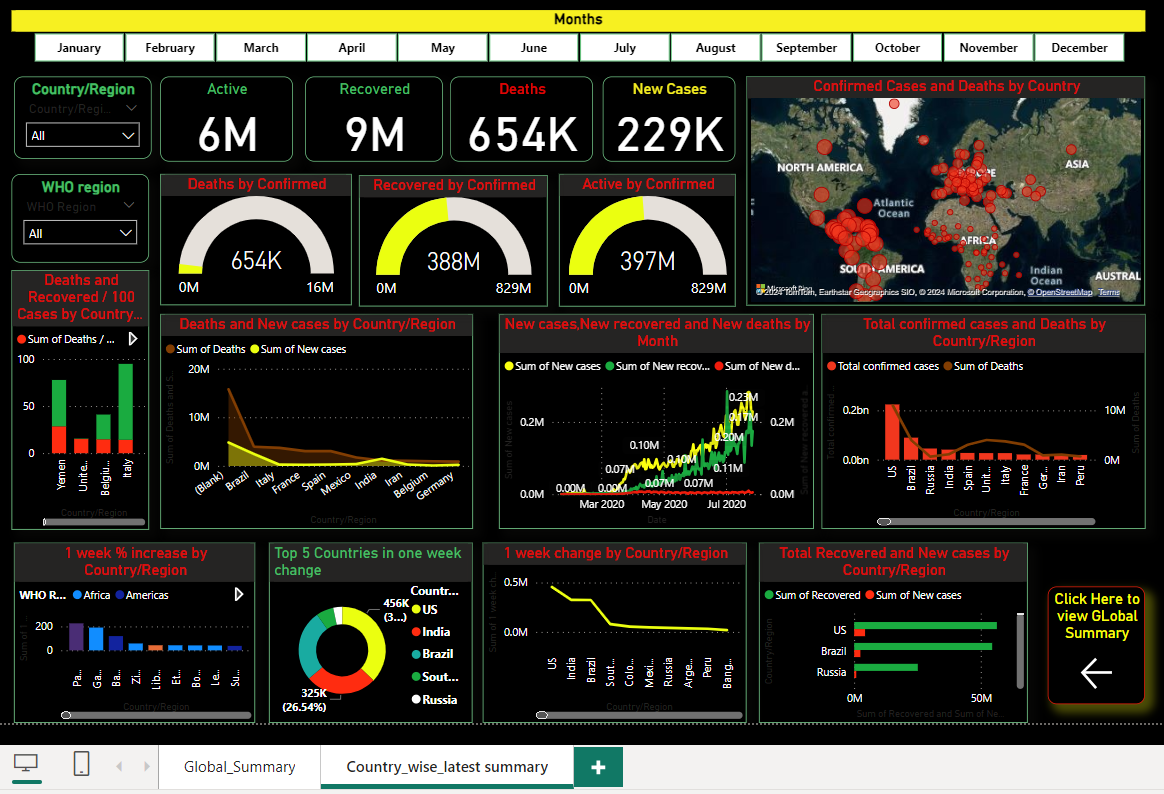

What the dashboard file says about the page in this screenshot:
{"tool":"powerbi","page":{"name":"Country_wise_latest summary","canvas":[1314,817],"ordinal":1},"visuals":[{"type":"lineStackedColumnComboChart","title":"Total confirmed cases and Deaths by Country/Region","fields":{"Category":["full_grouped.Country/Region"],"Y":["Sum(full_grouped.Confirmed)"],"Y2":["Sum(full_grouped.Deaths)"]},"box":[927.9,355.4,365.2,242.6],"z":0},{"type":"clusteredBarChart","title":"Total Recovered and  New cases by Country/Region","fields":{"Category":["full_grouped.Country/Region"],"Y":["Sum(full_grouped.Recovered)","Sum(full_grouped.New cases)"]},"box":[857.4,613.4,303.2,203.1],"z":1000},{"type":"areaChart","title":"Deaths and New cases by Country/Region","fields":{"Category":["worldometer_data.Country/Region"],"Y":["Sum(full_grouped.Deaths)","Sum(full_grouped.New cases)"]},"box":[181.9,355.4,352.5,242.6],"z":2000},{"type":"slicer","title":"Country/Region","fields":{"Values":["full_grouped.Country/Region"]},"box":[16.9,87.4,155.1,93.1],"z":3000},{"type":"gauge","title":" Active by Confirmed","fields":{"Y":["Sum(full_grouped.Active)"],"MaxValue":["Sum(full_grouped.Confirmed)"]},"box":[631.9,197.8,199.2,149.7],"z":4000},{"type":"gauge","title":" Deaths by Confirmed","fields":{"MaxValue":["Sum(country_wise_latest (1).Confirmed)"],"Y":["Sum(country_wise_latest (1).Deaths)"]},"box":[181.3,197.8,215.7,148.4],"z":5000},{"type":"gauge","title":"Recovered by Confirmed","fields":{"Y":["Sum(full_grouped.Recovered)"],"MaxValue":["Sum(full_grouped.Confirmed)"]},"box":[406.6,199.2,212.9,148.4],"z":6000},{"type":"card","title":"Deaths","fields":{"Values":["Sum(country_wise_latest (1).Deaths)"]},"box":[509.6,87.9,160.7,96.2],"z":7000},{"type":"card","title":"Active ","fields":{"Values":["Sum(country_wise_latest (1).Active)"]},"box":[181.3,87.9,149.7,96.2],"z":8000},{"type":"card","title":"Recovered","fields":{"Values":["Sum(country_wise_latest (1).Recovered)"]},"box":[344.8,87.9,155.2,96.2],"z":9000},{"type":"slicer","title":"WHO region","fields":{"Values":["country_wise_latest (1).WHO Region"]},"box":[14.1,197.4,155.1,100.1],"z":10000},{"type":"map","title":"Confirmed Cases and Deaths by Country","fields":{"Category":["worldometer_data.Country/Region"],"Size":["Sum(country_wise_latest (1).Confirmed)"]},"box":[843.3,87.4,449.8,258.1],"z":11000},{"type":"card","title":"New Cases","fields":{"Values":["Sum(country_wise_latest (1).New cases)"]},"box":[681.4,87.9,149.7,96.2],"z":12000},{"type":"columnChart","title":"Deaths  and Recovered / 100 Cases by Country/Region","fields":{"Category":["country_wise_latest (1).Country/Region"],"Y":["Sum(country_wise_latest (1).Deaths / 100 Cases)","Sum(country_wise_latest (1).Recovered / 100 Cases)"]},"box":[13.7,306.3,155.2,292.6],"z":13000},{"type":"columnChart","title":" 1 week % increase by Country/Region","fields":{"Category":["country_wise_latest (1).Country/Region"],"Y":["Sum(country_wise_latest (1).1 week % increase)"],"Series":["country_wise_latest (1).WHO Region"]},"box":[16.9,613.4,272.2,203.1],"z":14000},{"type":"lineChart","title":"1 week change by Country/Region","fields":{"Category":["country_wise_latest (1).Country/Region"],"Y":["Sum(country_wise_latest (1).1 week change)"]},"box":[545.7,613.4,297.5,203.1],"z":15000},{"type":"donutChart","title":"Top 5 Countries in one week change","fields":{"Y":["Sum(country_wise_latest (1).1 week change)"],"Category":["country_wise_latest (1).Country/Region"]},"box":[304.6,613.4,229.9,203.1],"z":16000},{"type":"slicer","title":"Months","fields":{"Values":["full_grouped.Date.Variation.Date Hierarchy.Month"]},"box":[14.1,12.7,1279,64.9],"z":17000},{"type":"lineChart","title":"New cases,New recovered and New deaths by Month","fields":{"Category":["full_grouped.Date.Variation.Date Hierarchy.Month"],"Y":["Sum(full_grouped.New cases)"],"Y2":["Sum(full_grouped.New recovered)","Sum(full_grouped.New deaths)"]},"box":[564.1,355.4,355.4,242.6],"z":18000},{"type":"actionButton","title":"Click Here to view GLobal Summary","box":[1183.1,662.8,110,132.6],"z":19000}]}

Visuals, with their boxes on the page's 1314x817 design canvas (x1, y1, x2, y2). These are canvas units, not pixel positions in the 1164x794 screenshot, which may show the page scaled, cropped or inside an application window:
"Total confirmed cases and Deaths by Country/Region" lineStackedColumnComboChart: (928,355,1293,598)
"Total Recovered and  New cases by Country/Region" clusteredBarChart: (857,613,1161,816)
"Deaths and New cases by Country/Region" areaChart: (182,355,534,598)
"Country/Region" slicer: (17,87,172,180)
" Active by Confirmed" gauge: (632,198,831,348)
" Deaths by Confirmed" gauge: (181,198,397,346)
"Recovered by Confirmed" gauge: (407,199,620,348)
"Deaths" card: (510,88,670,184)
"Active " card: (181,88,331,184)
"Recovered" card: (345,88,500,184)
"WHO region" slicer: (14,197,169,298)
"Confirmed Cases and Deaths by Country" map: (843,87,1293,346)
"New Cases" card: (681,88,831,184)
"Deaths  and Recovered / 100 Cases by Country/Region" columnChart: (14,306,169,599)
" 1 week % increase by Country/Region" columnChart: (17,613,289,816)
"1 week change by Country/Region" lineChart: (546,613,843,816)
"Top 5 Countries in one week change" donutChart: (305,613,534,816)
"Months" slicer: (14,13,1293,78)
"New cases,New recovered and New deaths by Month" lineChart: (564,355,920,598)
"Click Here to view GLobal Summary" actionButton: (1183,663,1293,795)
